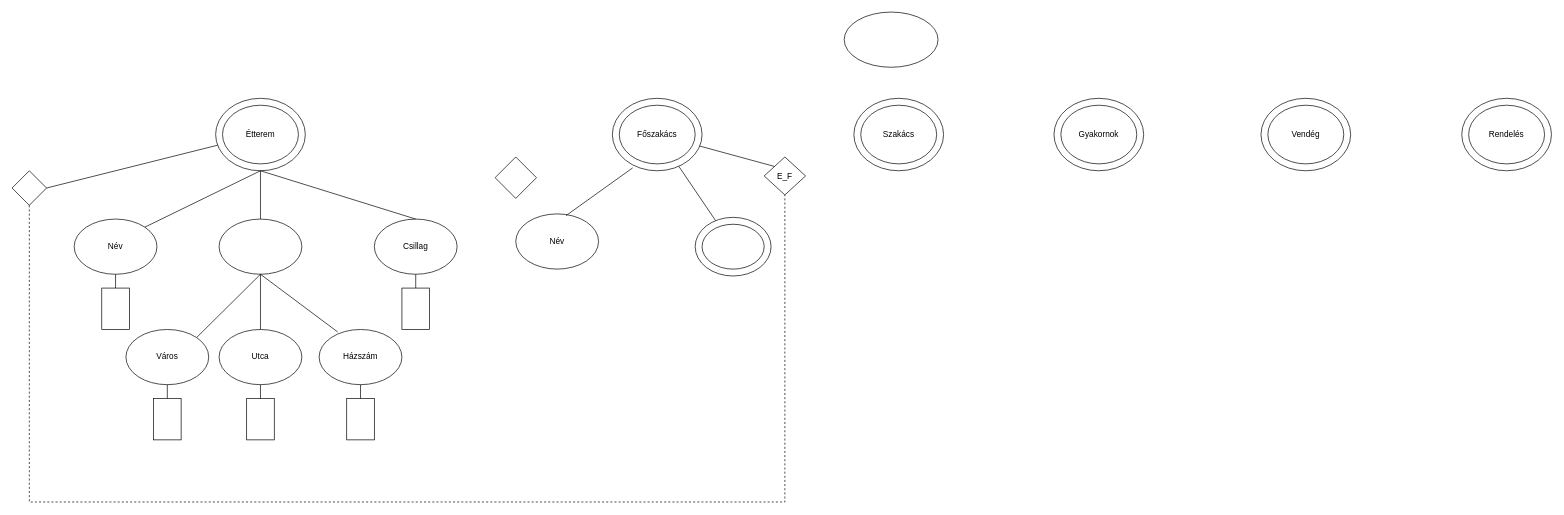
Image size: 1564x515. Some labels were removed from this diagram. The centre of each missing label's shape, as x and y in pixels:
Cím: point (260, 246)
Ekód: point (29, 187)
Vendéglátás: point (891, 39)
Végzetség: point (732, 246)
